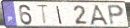2: (73, 5, 89, 26)
6: (18, 4, 33, 26)
A: (90, 4, 112, 26)
I: (56, 5, 63, 25)
P: (106, 4, 125, 27)
T: (35, 4, 50, 26)
